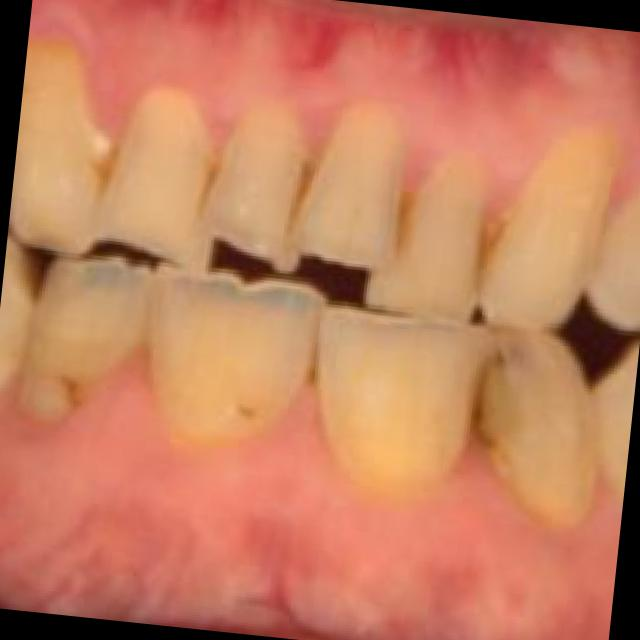karies: (458, 356, 520, 464), (381, 186, 428, 268), (202, 392, 278, 436), (467, 216, 500, 315), (280, 162, 316, 236), (41, 363, 91, 416), (94, 138, 124, 210), (195, 156, 225, 223)
